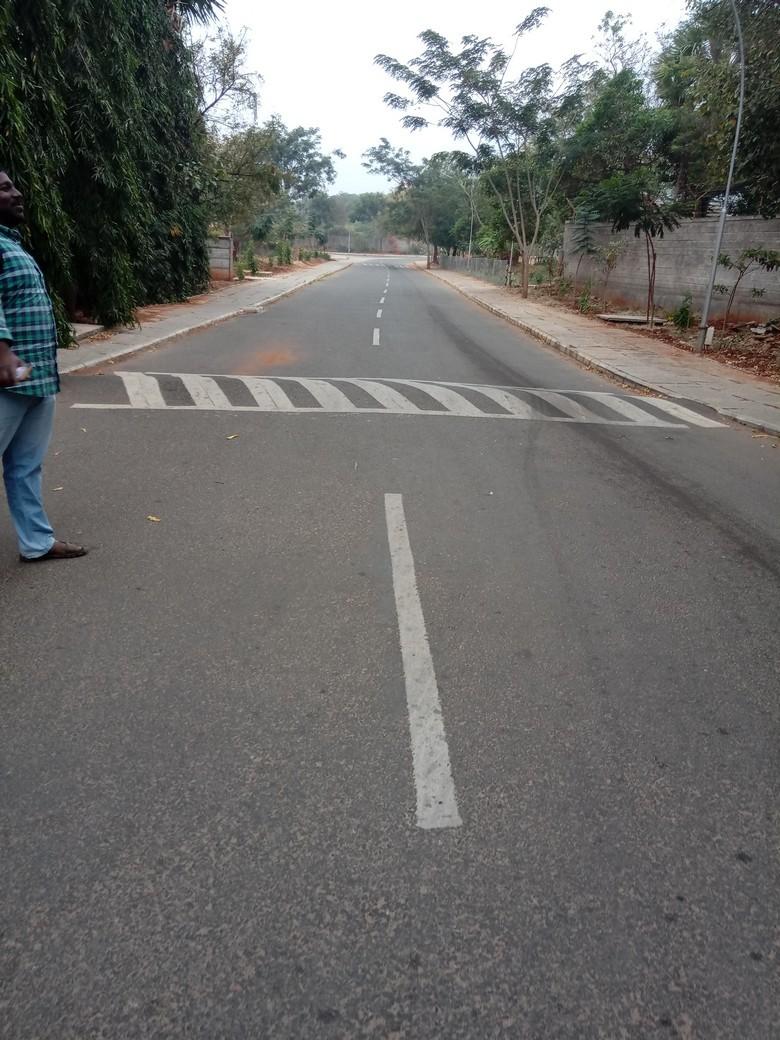bump: (51, 370, 724, 427)
